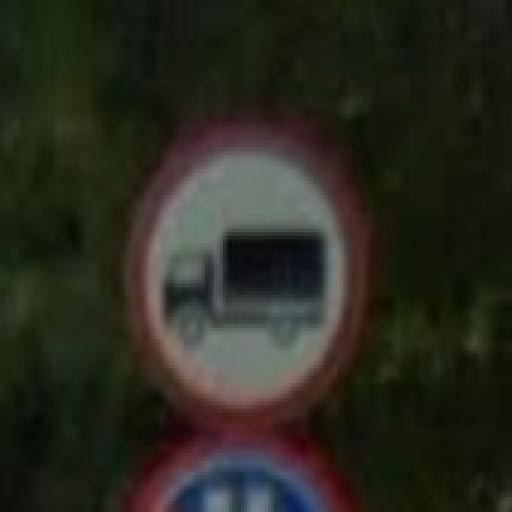traffic_sign: (128, 126, 369, 436)
